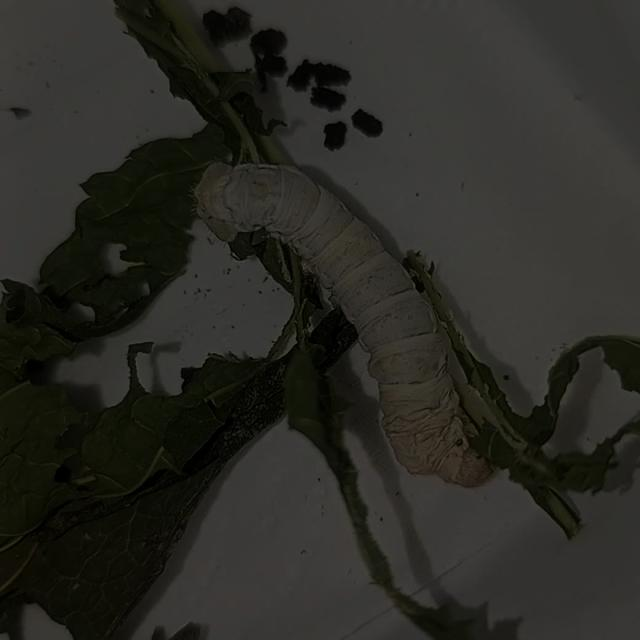Healthy: (170, 110, 512, 507)
